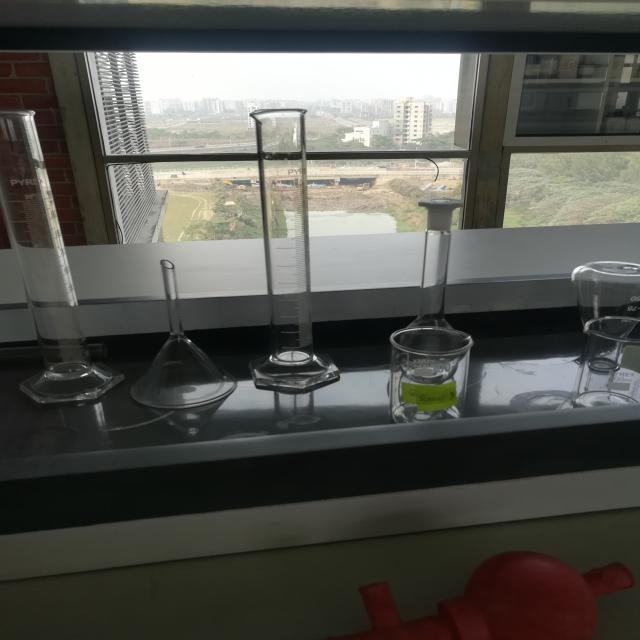Beaker: (372, 312, 497, 435), (564, 305, 640, 420)
Funnel: (114, 249, 250, 426)
Measuring_Cylinder: (235, 100, 363, 408), (0, 105, 120, 420)
